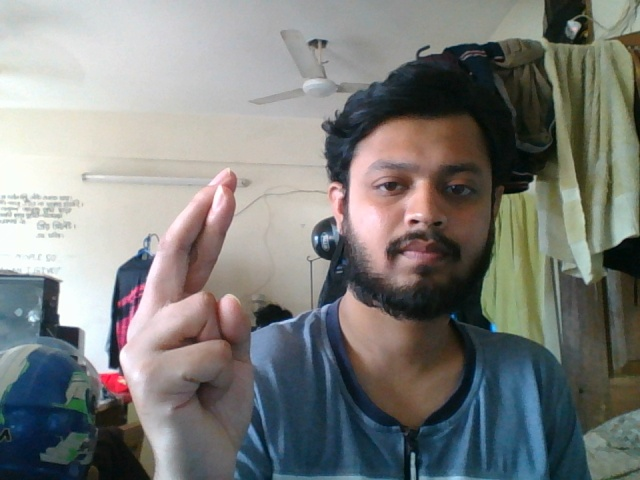r: (119, 164, 263, 470)
